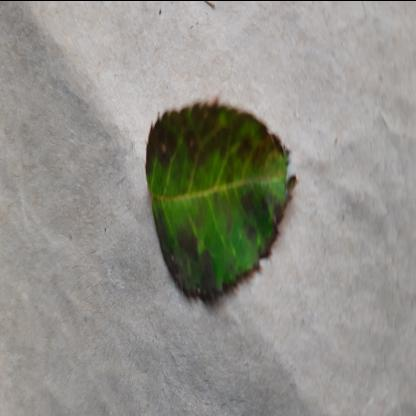downy-mildew: (143, 60, 295, 309)
